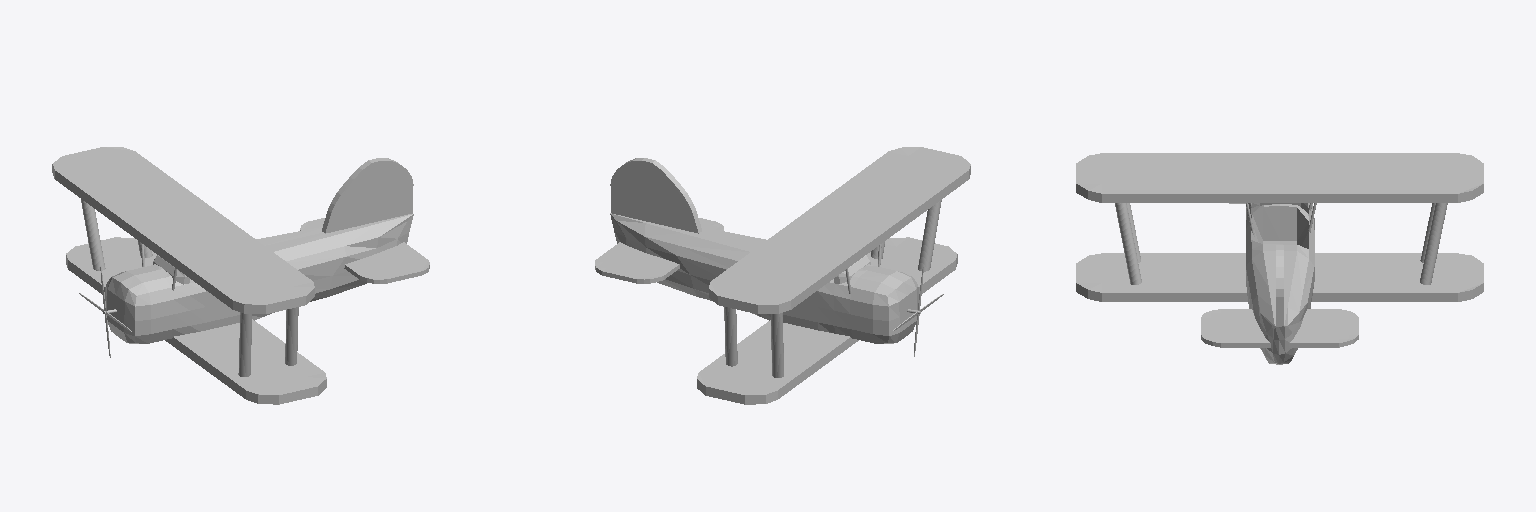
File: biplane_fla.obj
3 renders of one model, left to right at view 1: azimuth 30°, elevation 25°; view 2: azimuth 150°, elevation 25°; view 3: azimuth 270°, elevation 25°, orthographic.
Parts seen in each view (by area): view 1: Cylinder.011; view 2: Cylinder.011; view 3: Cylinder.011.
Boxes of the visible parts, box(x1,y1,x2,y2) form: Cylinder.011: box(52, 147, 429, 404); Cylinder.011: box(595, 147, 970, 404); Cylinder.011: box(1076, 153, 1483, 364).
Bounding box in the file's own units: 9.57 × 3.91 × 10.83.